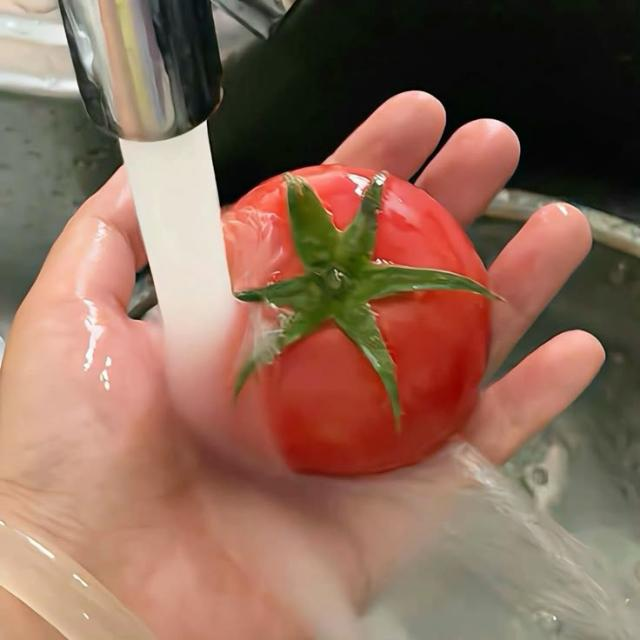tomato: (224, 166, 490, 475)
